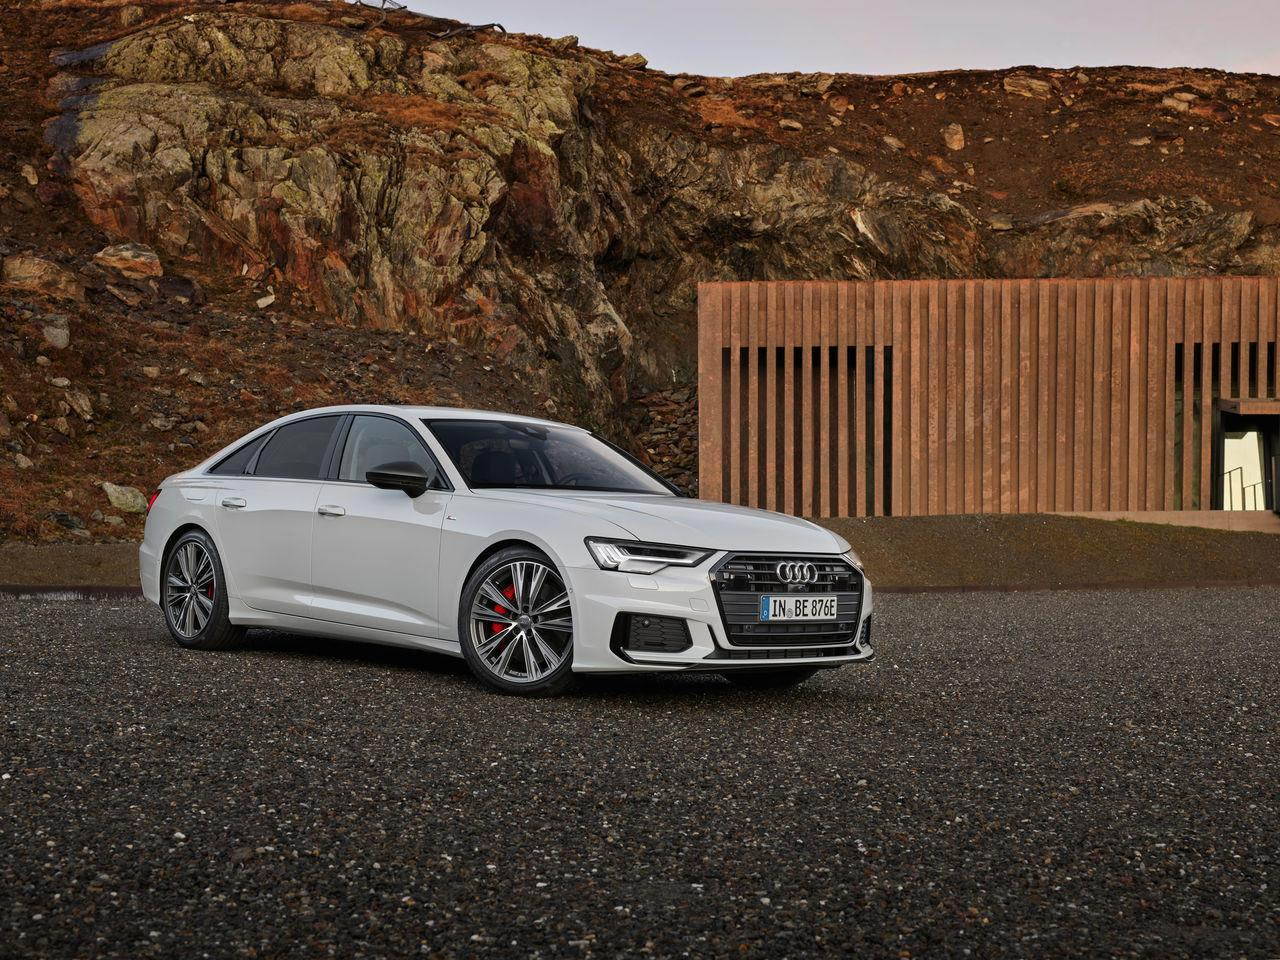car: (146, 407, 878, 694)
